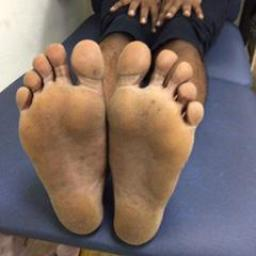Plantar View -Both Feet-: (11, 30, 210, 248)
